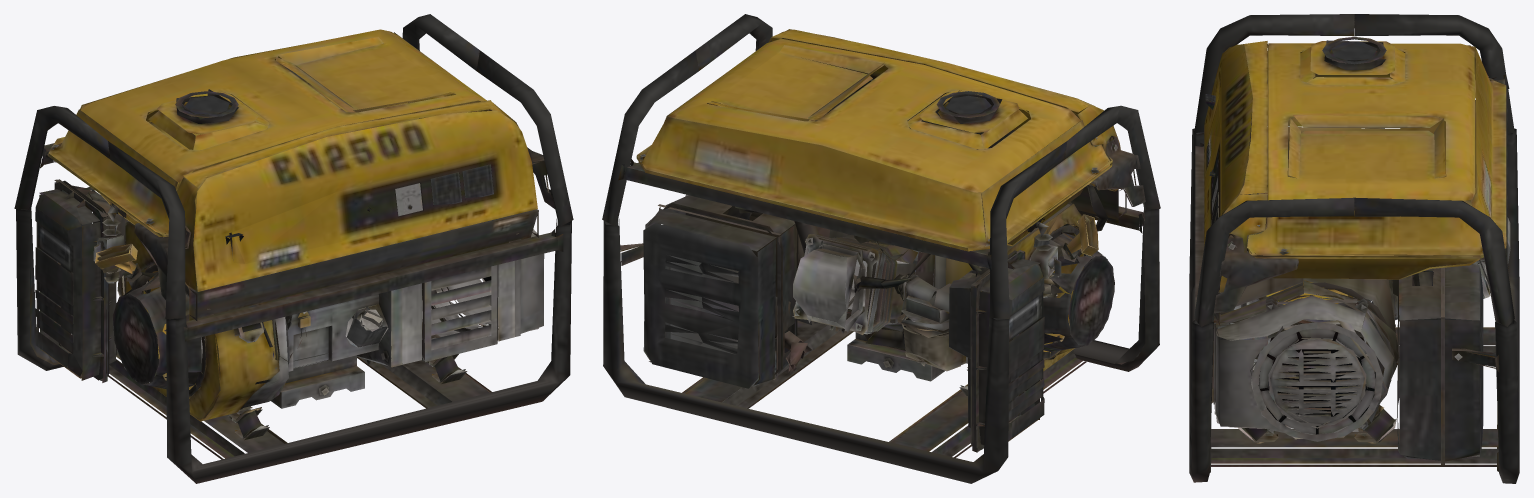
Rendered from portable_generator.glb.
3 views of the same model, side by side, from view 1: azimuth 30°, elevation 25°; view 2: azimuth 150°, elevation 25°; view 3: azimuth 270°, elevation 25° (orthographic).
Parts seen in each view (by area): view 1: portable_generator; view 2: portable_generator; view 3: portable_generator.
Boxes of the visible parts, bbox=[...] form: portable_generator: bbox=[14, 14, 573, 483]; portable_generator: bbox=[602, 14, 1160, 483]; portable_generator: bbox=[1189, 14, 1519, 483].
Bounding box in the file's own units: 0.8217 × 0.5768 × 0.5636.
2 materials, 2 textured.
